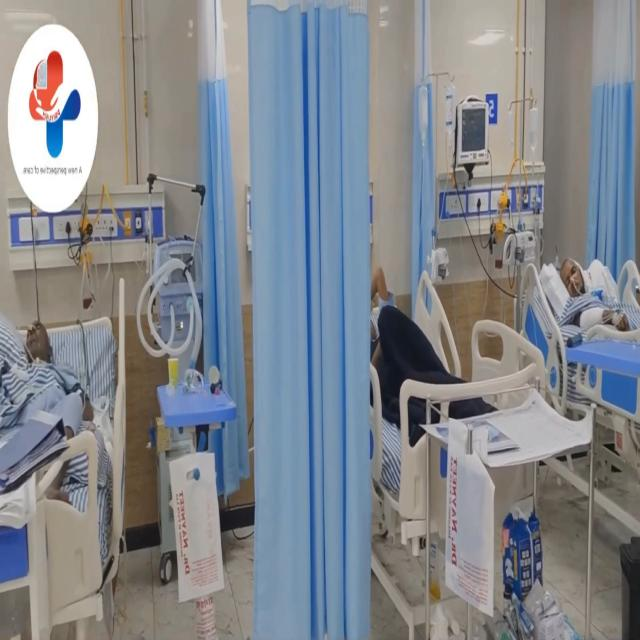Movement-NO: (4, 301, 92, 428)
Movement-Yes: (371, 260, 418, 370)
